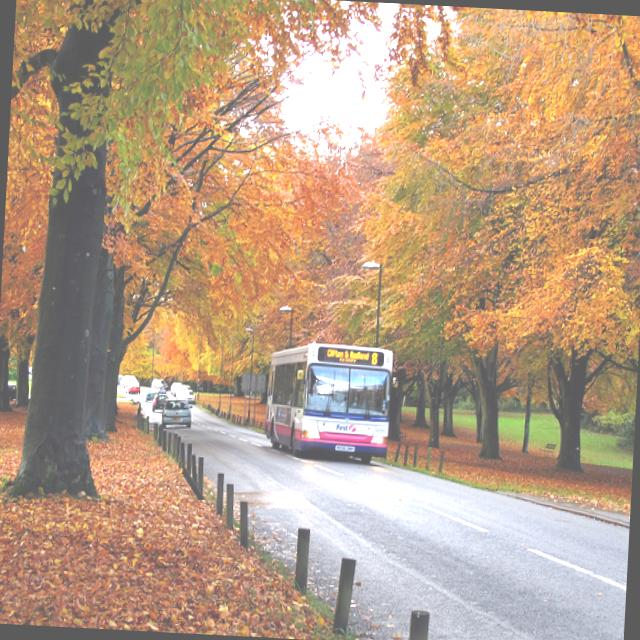Vehicle: (263, 340, 392, 468), (156, 400, 192, 430), (152, 391, 170, 414), (119, 374, 139, 390), (175, 384, 193, 400), (180, 390, 196, 404), (144, 389, 157, 404), (170, 382, 182, 398), (152, 379, 168, 390), (126, 382, 140, 394), (118, 376, 124, 385)
